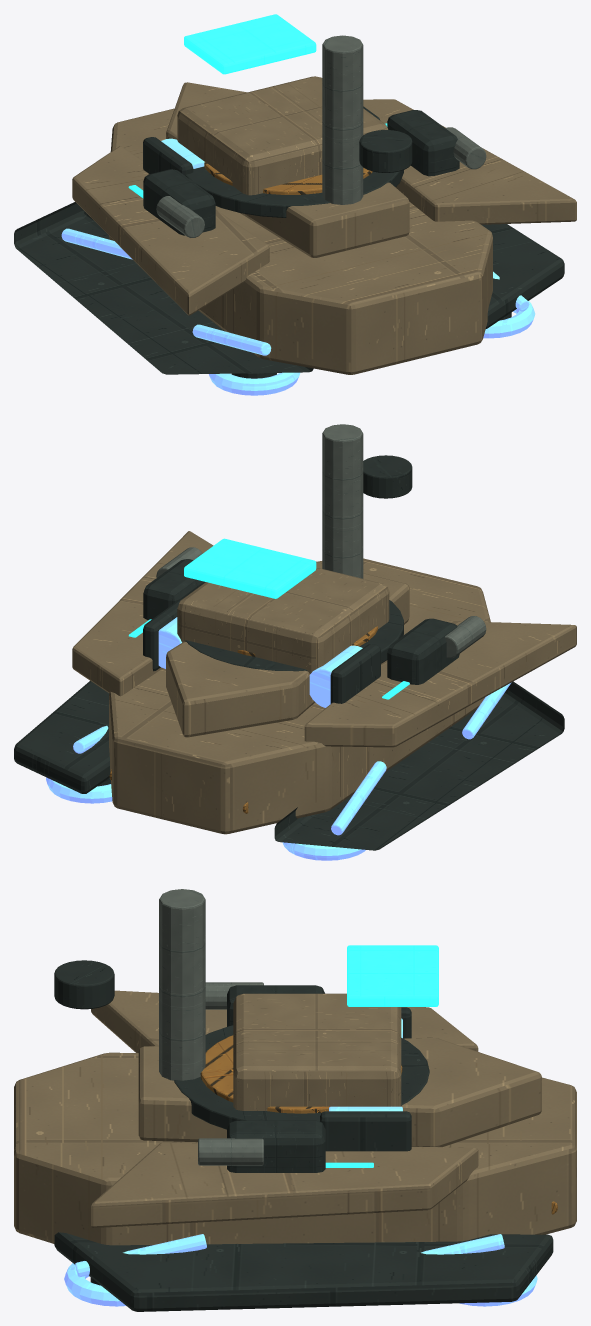
File: lumen_bulwark.glb
3 views of the same model, one above another, from view 1: azimuth 30°, elevation 25°; view 2: azimuth 150°, elevation 25°; view 3: azimuth 270°, elevation 25° (orthographic). The views are drawn at different scales.
Visible parts, largest first — view 1: Prisma · swept faceted hover hull, Faction detail · Vehicle / armor_light.014, Faction detail · Vehicle / dark.014, Raised armored traversing turret, Long-bore main cannon, Faction detail · Vehicle / dark.001, Faction detail · Vehicle / energy.008, TeamColor, Armored assault sponson.001, Armored assault sponson, Faction detail · Vehicle / steel.014, Indexed azimuth bearing; view 2: Prisma · swept faceted hover hull, Faction detail · Vehicle / armor_light.014, Faction detail · Vehicle / dark.014, Raised armored traversing turret, Long-bore main cannon, Faction detail · Vehicle / energy.008, TeamColor, Faction detail · Vehicle / dark.001, Armored assault sponson, Armored assault sponson.001, Faction detail · Vehicle / steel.014; view 3: Prisma · swept faceted hover hull, Faction detail · Vehicle / armor_light.014, Faction detail · Vehicle / dark.014, Raised armored traversing turret, Long-bore main cannon, Faction detail · Vehicle / dark.001, TeamColor, Armored assault sponson.001, Faction detail · Vehicle / energy.008, Faction detail · Vehicle / steel.014, Indexed azimuth bearing, Armored assault sponson.
Boxes of the visible parts, box(x1,y1,x2,y2) form: Prisma · swept faceted hover hull: box(109, 108, 492, 374); Faction detail · Vehicle / armor_light.014: box(72, 82, 576, 315); Faction detail · Vehicle / dark.014: box(14, 106, 564, 378); Raised armored traversing turret: box(177, 76, 388, 195); Long-bore main cannon: box(322, 35, 363, 204); Faction detail · Vehicle / dark.001: box(185, 130, 412, 217); Faction detail · Vehicle / energy.008: box(61, 138, 535, 395); TeamColor: box(184, 14, 316, 74); Armored assault sponson.001: box(387, 110, 459, 176); Armored assault sponson: box(143, 169, 215, 235); Faction detail · Vehicle / steel.014: box(156, 127, 486, 237); Indexed azimuth bearing: box(204, 162, 372, 194); Prisma · swept faceted hover hull: box(109, 558, 490, 834); Faction detail · Vehicle / armor_light.014: box(72, 531, 576, 747); Faction detail · Vehicle / dark.014: box(14, 598, 564, 850); Raised armored traversing turret: box(177, 567, 389, 673); Long-bore main cannon: box(322, 424, 363, 578); Faction detail · Vehicle / energy.008: box(46, 617, 511, 860); TeamColor: box(184, 538, 316, 598); Faction detail · Vehicle / dark.001: box(185, 455, 412, 671); Armored assault sponson: box(387, 618, 459, 684); Armored assault sponson.001: box(143, 559, 205, 620); Faction detail · Vehicle / steel.014: box(156, 547, 486, 658); Prisma · swept faceted hover hull: box(14, 1052, 576, 1245); Faction detail · Vehicle / armor_light.014: box(91, 990, 541, 1227); Faction detail · Vehicle / dark.014: box(54, 1007, 553, 1311); Raised armored traversing turret: box(233, 993, 401, 1110); Long-bore main cannon: box(159, 889, 205, 1080); Faction detail · Vehicle / dark.001: box(54, 960, 429, 1129); TeamColor: box(347, 945, 438, 1006); Armored assault sponson.001: box(227, 1120, 325, 1172); Faction detail · Vehicle / energy.008: box(64, 1018, 537, 1306); Faction detail · Vehicle / steel.014: box(198, 982, 263, 1165); Indexed azimuth bearing: box(200, 1035, 402, 1113); Armored assault sponson: box(227, 985, 324, 1026).
Size of the model in its own units: 3.85 by 2.67 by 4.11.
9 materials, 9 textured.
